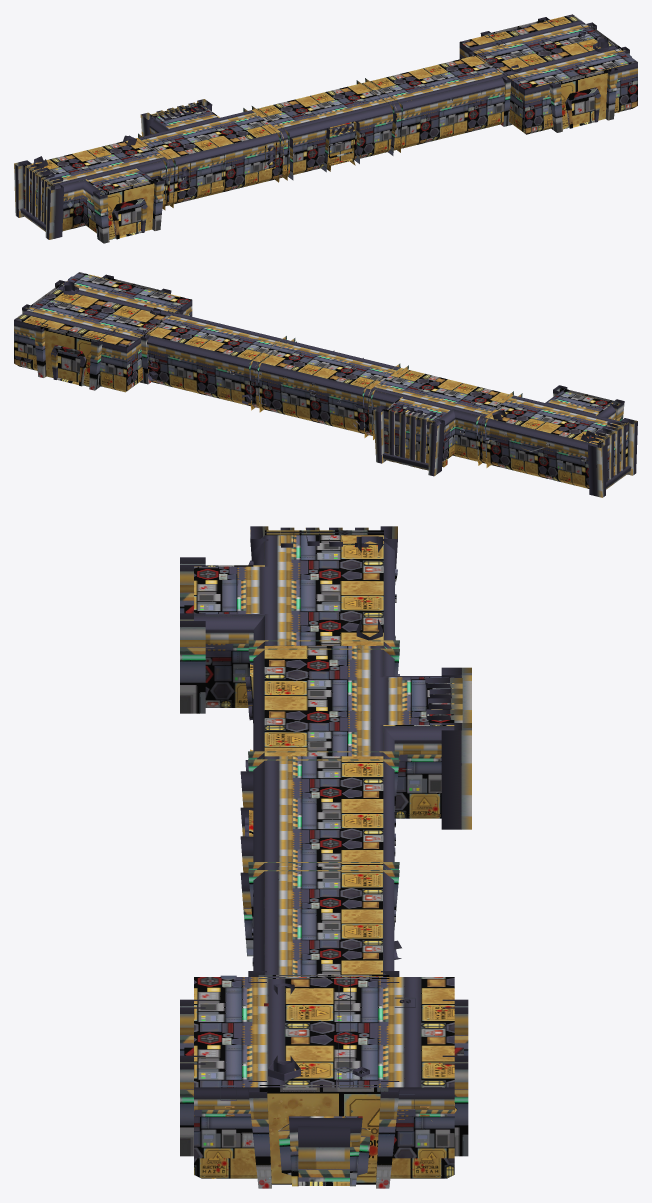
File: Combined_Mesh_root_scene__7_93922163__zombies2_diffuse_04_b80f3c78_c1f257.obj
3 views of the same model, one above another, from view 1: azimuth 30°, elevation 25°; view 2: azimuth 150°, elevation 25°; view 3: azimuth 270°, elevation 25° (orthographic). The views are drawn at different scales.
Bounding box in the file's own units: 102 × 9.84 × 22.39.
85 materials, 85 textured.
